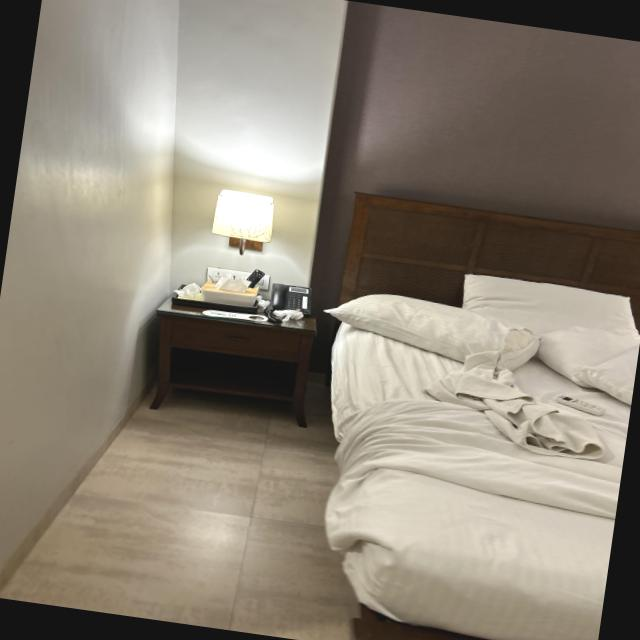mess: (301, 211, 640, 640), (117, 208, 376, 450)
